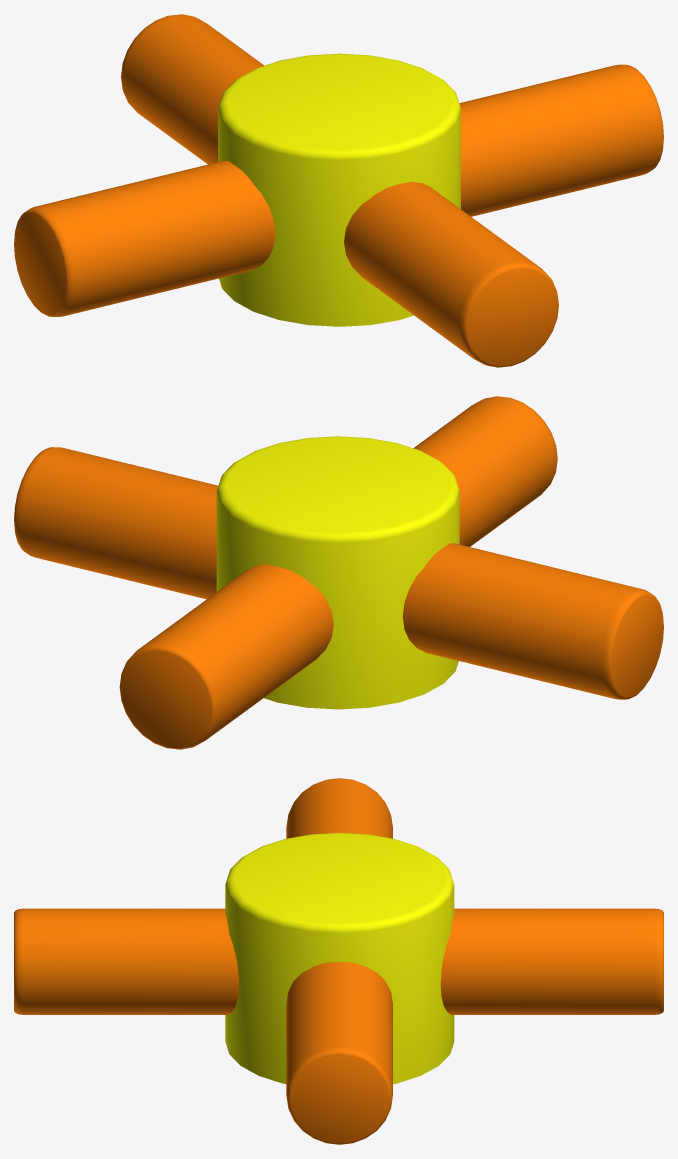
Rendered from ground_loop_trap_.fbx.
3 renders of one model, top to bottom at view 1: azimuth 30°, elevation 25°; view 2: azimuth 150°, elevation 25°; view 3: azimuth 270°, elevation 25°, orthographic. The views are drawn at different scales.
Parts seen in each view (by area): view 1: ground loop trap; view 2: ground loop trap; view 3: ground loop trap.
Boxes of the visible parts, x1,y1,x2,y2 form: ground loop trap: (14, 14, 663, 367); ground loop trap: (14, 396, 663, 749); ground loop trap: (14, 778, 663, 1144).
Size of the model in its own units: 217 by 60.1 by 217.
